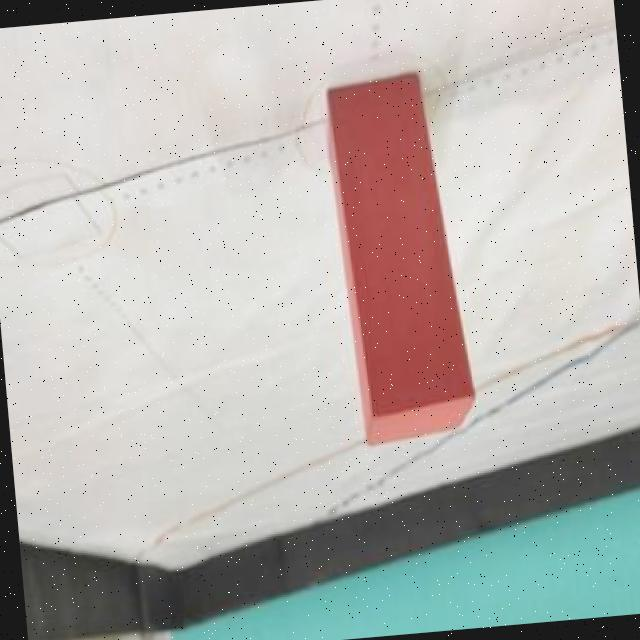redbox: (330, 70, 465, 443)
